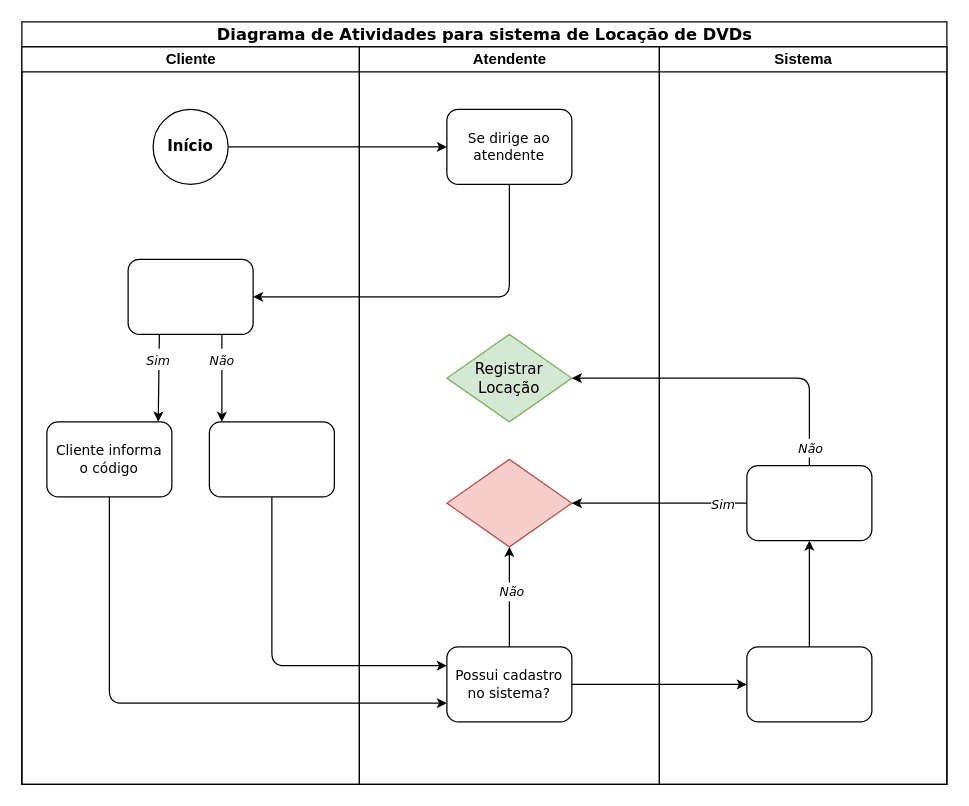
The diagram is 969 pixels wide and 806 high, and some of its shapes have lost their labels. The shapes that lost their labels are listed below. From the top down, each one's centre as x and y in pixels, then its label:
pixel 190 296: O cliente lembra seu código?
pixel 271 459: Cliente informa o nome completo
pixel 509 502: Locação Recusada
pixel 809 502: Possui alguma pendência?
pixel 809 684: Verificar locações devolvidas
